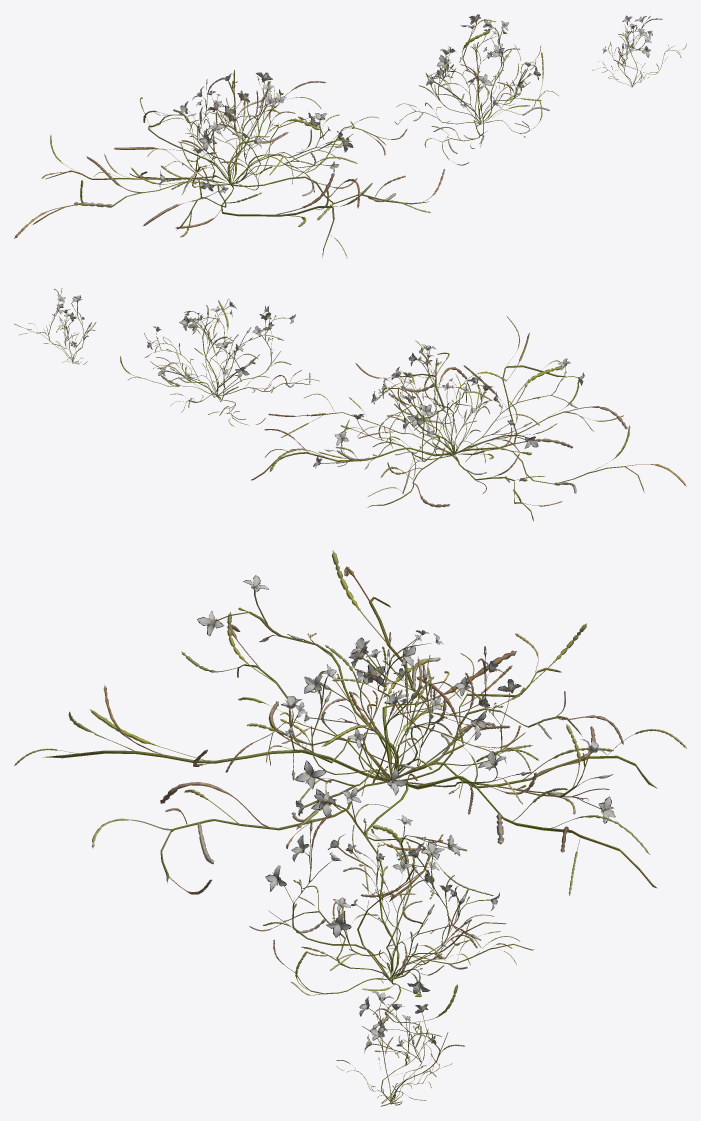
Rendered from flower_heliophila_1k.gltf.
The picture shows the model from 3 angles, top to bottom: view 1: azimuth 30°, elevation 25°; view 2: azimuth 150°, elevation 25°; view 3: azimuth 270°, elevation 25°; orthographic projection. The views are drawn at different scales.
Visible parts, largest first — view 1: flower_heliophila_large, flower_heliophila_medium, flower_heliophila_small; view 2: flower_heliophila_large, flower_heliophila_medium, flower_heliophila_small; view 3: flower_heliophila_large, flower_heliophila_medium, flower_heliophila_small.
Part boxes in pixels (x1,y1,x2,y2): flower_heliophila_large: (14,70,445,258); flower_heliophila_medium: (394,14,558,165); flower_heliophila_small: (592,15,686,87); flower_heliophila_large: (251,316,686,521); flower_heliophila_medium: (120,298,319,426); flower_heliophila_small: (14,288,96,364); flower_heliophila_large: (14,550,686,923); flower_heliophila_medium: (249,787,534,1047); flower_heliophila_small: (336,991,465,1106).
Bounding box in the file's own units: 2.75 × 0.3993 × 1.42.
1 material, 1 textured.
